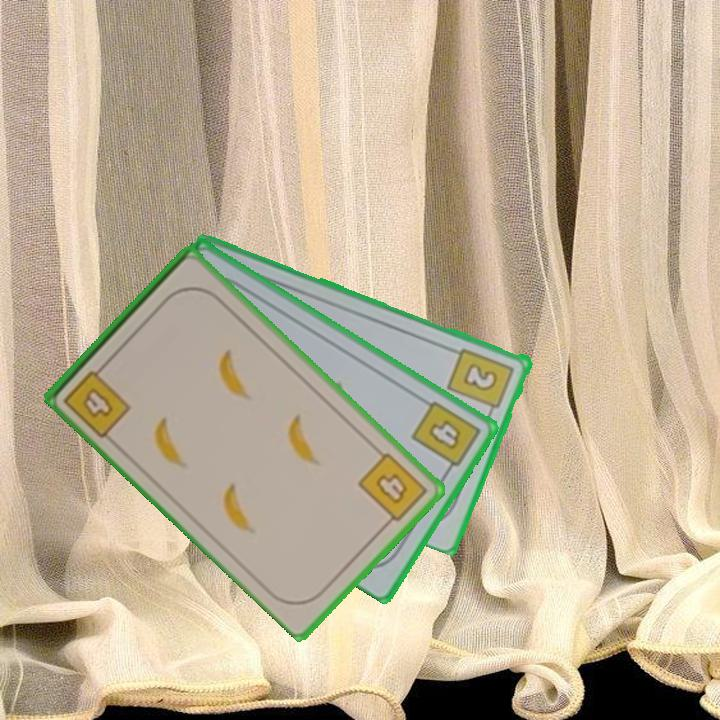2b: (445, 344, 518, 419)
4b: (354, 448, 431, 530), (407, 397, 484, 477), (60, 358, 134, 441)
